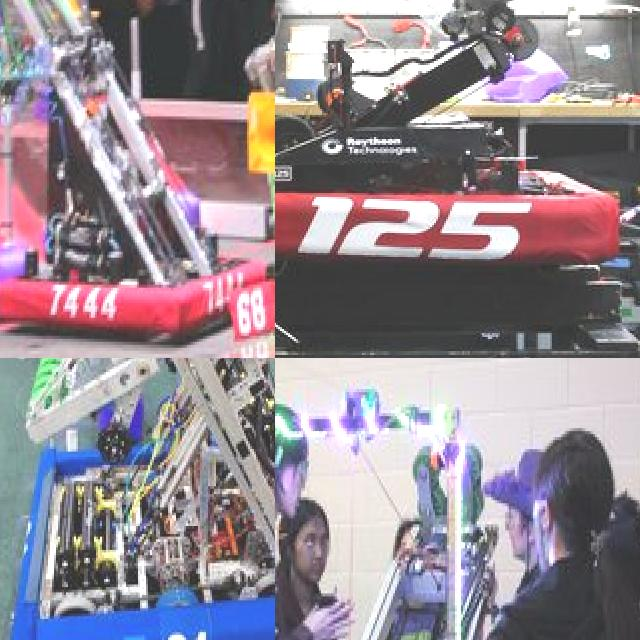FRC-Robots: (275, 0, 640, 263), (0, 358, 275, 640), (275, 392, 522, 640), (224, 14, 275, 315)
